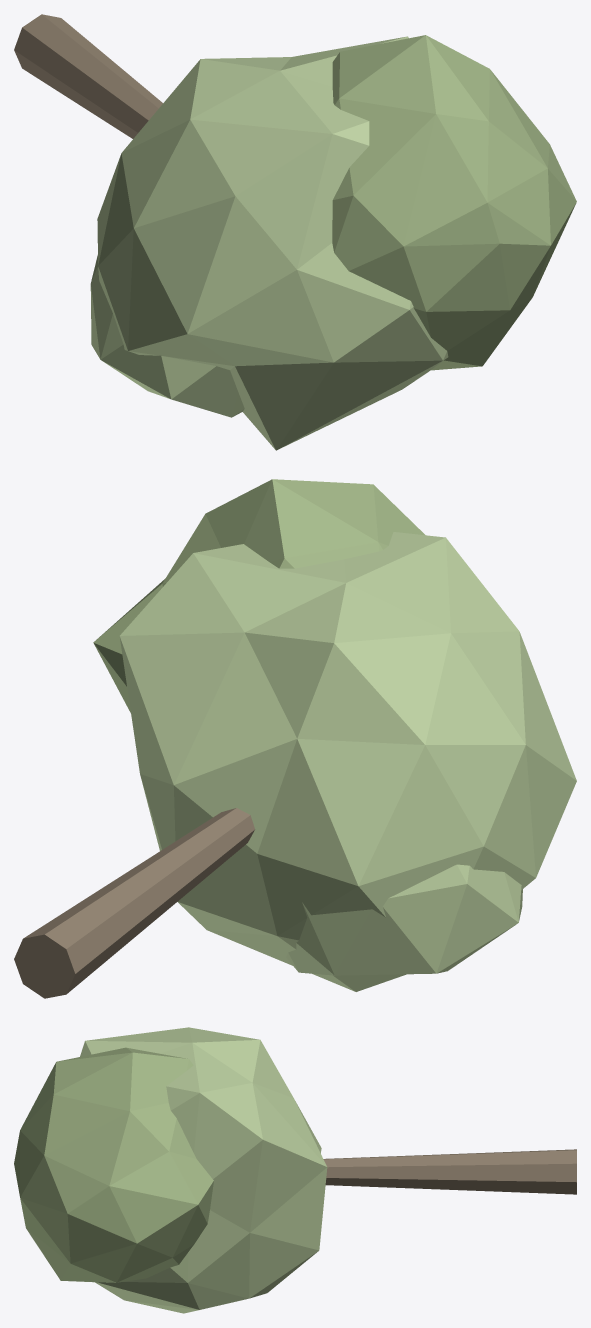
The model's file is deciduous-birch.glb.
The picture shows the model from 3 angles, top to bottom: view 1: azimuth 30°, elevation 25°; view 2: azimuth 150°, elevation 25°; view 3: azimuth 270°, elevation 25°; orthographic projection. The views are drawn at different scales.
Visible parts, largest first — view 1: deciduous-birch_Forest_Highlight, deciduous-birch_Forest_Base, deciduous-birch_Trunk_Brown; view 2: deciduous-birch_Forest_Highlight, deciduous-birch_Forest_Base, deciduous-birch_Trunk_Brown; view 3: deciduous-birch_Forest_Base, deciduous-birch_Forest_Highlight, deciduous-birch_Trunk_Brown.
Boxes of the visible parts, bbox=[...] form: deciduous-birch_Forest_Highlight: bbox=[90, 36, 448, 450]; deciduous-birch_Forest_Base: bbox=[332, 35, 576, 370]; deciduous-birch_Trunk_Brown: bbox=[14, 14, 162, 138]; deciduous-birch_Forest_Highlight: bbox=[119, 532, 576, 991]; deciduous-birch_Forest_Base: bbox=[93, 479, 425, 712]; deciduous-birch_Trunk_Brown: bbox=[14, 808, 254, 998]; deciduous-birch_Forest_Base: bbox=[14, 1047, 213, 1282]; deciduous-birch_Forest_Highlight: bbox=[80, 1027, 327, 1313]; deciduous-birch_Trunk_Brown: bbox=[323, 1149, 576, 1194].
Size of the model in its own units: 1.17 by 1.09 by 1.87.
